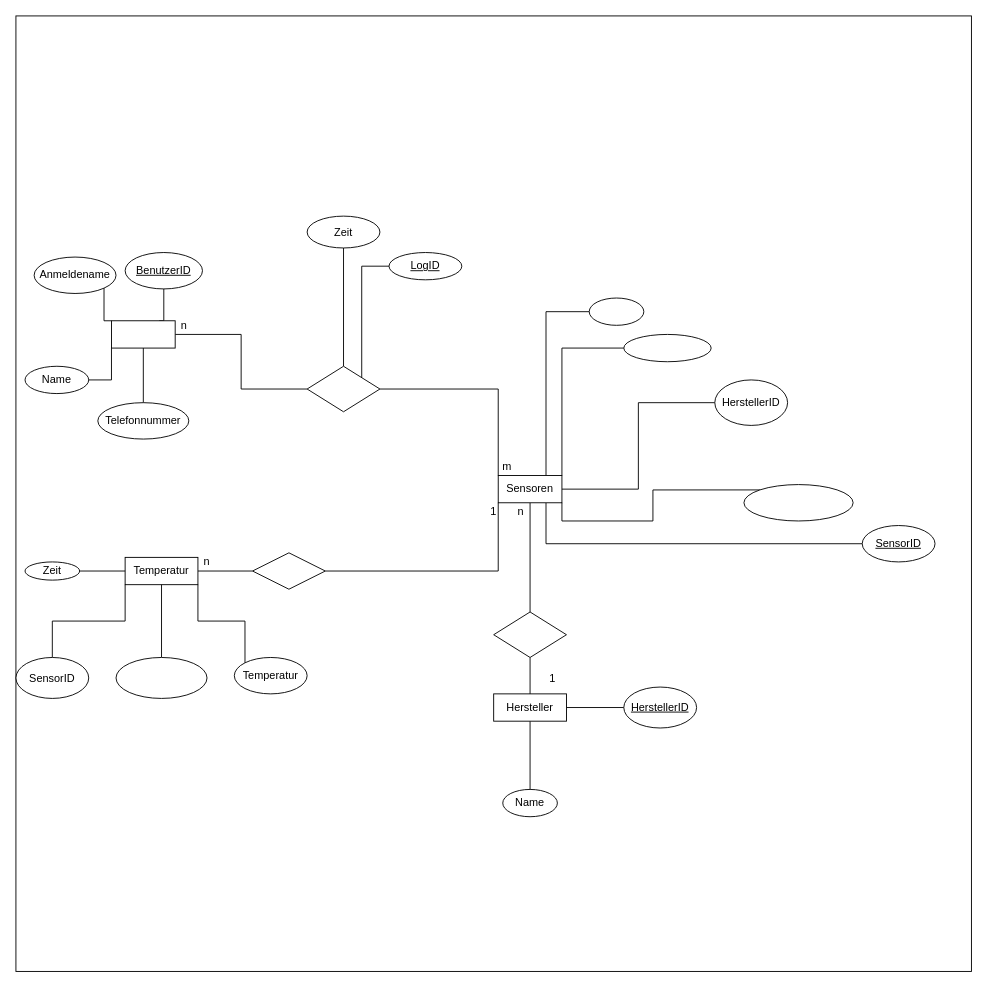
This 987x987 diagram has some shape labels left out. Here are the shapes that lost their labels. From the top down, the box of each, then its label:
(588, 297, 644, 325): Adresse
(111, 320, 175, 348): Benutzer
(623, 334, 711, 362): Serverschrank
(306, 365, 380, 412): bearbeitet
(743, 484, 853, 521): MaximalTemperatur
(252, 552, 325, 589): misst
(493, 611, 566, 657): stellt her
(115, 657, 207, 698): TemperaturID
